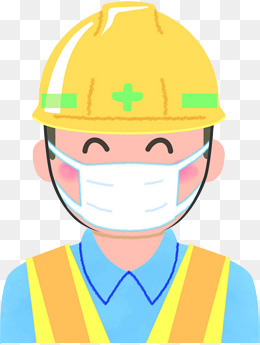yes_mask: (29, 4, 224, 239)
